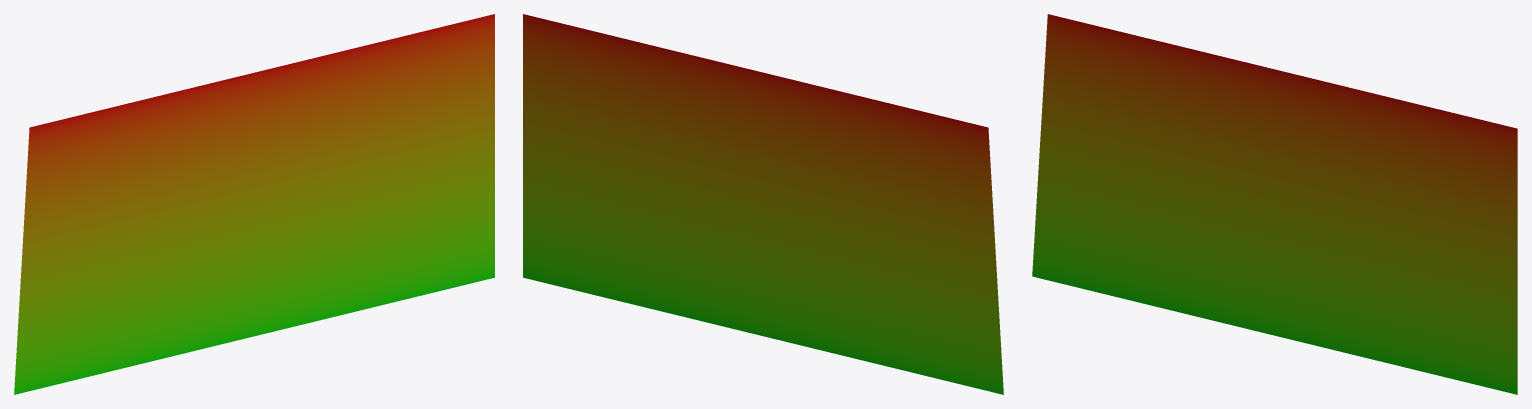
Rendered from Var9_LOD4.fbx.
The picture shows the model from 3 angles, left to right: view 1: azimuth 30°, elevation 25°; view 2: azimuth 150°, elevation 25°; view 3: azimuth 330°, elevation 25°; orthographic projection.
Parts seen in each view (by area): view 1: _76fd_Var9_LOD4; view 2: _76fd_Var9_LOD4; view 3: _76fd_Var9_LOD4.
Boxes of the visible parts, x1=… form: _76fd_Var9_LOD4: x1=14, y1=14, x2=494, y2=394; _76fd_Var9_LOD4: x1=523, y1=14, x2=1003, y2=394; _76fd_Var9_LOD4: x1=1032, y1=14, x2=1517, y2=394.
Bounding box in the file's own units: 41.47 × 21.73 × 3.81e-06.
